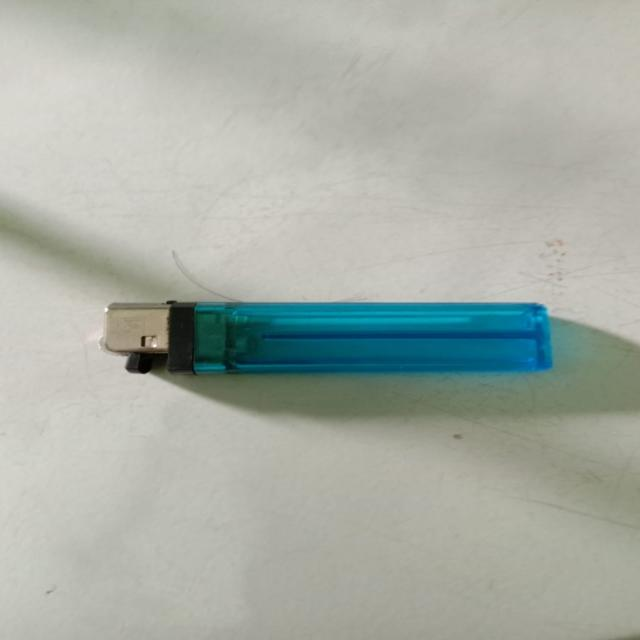korek api: (71, 257, 592, 450)
